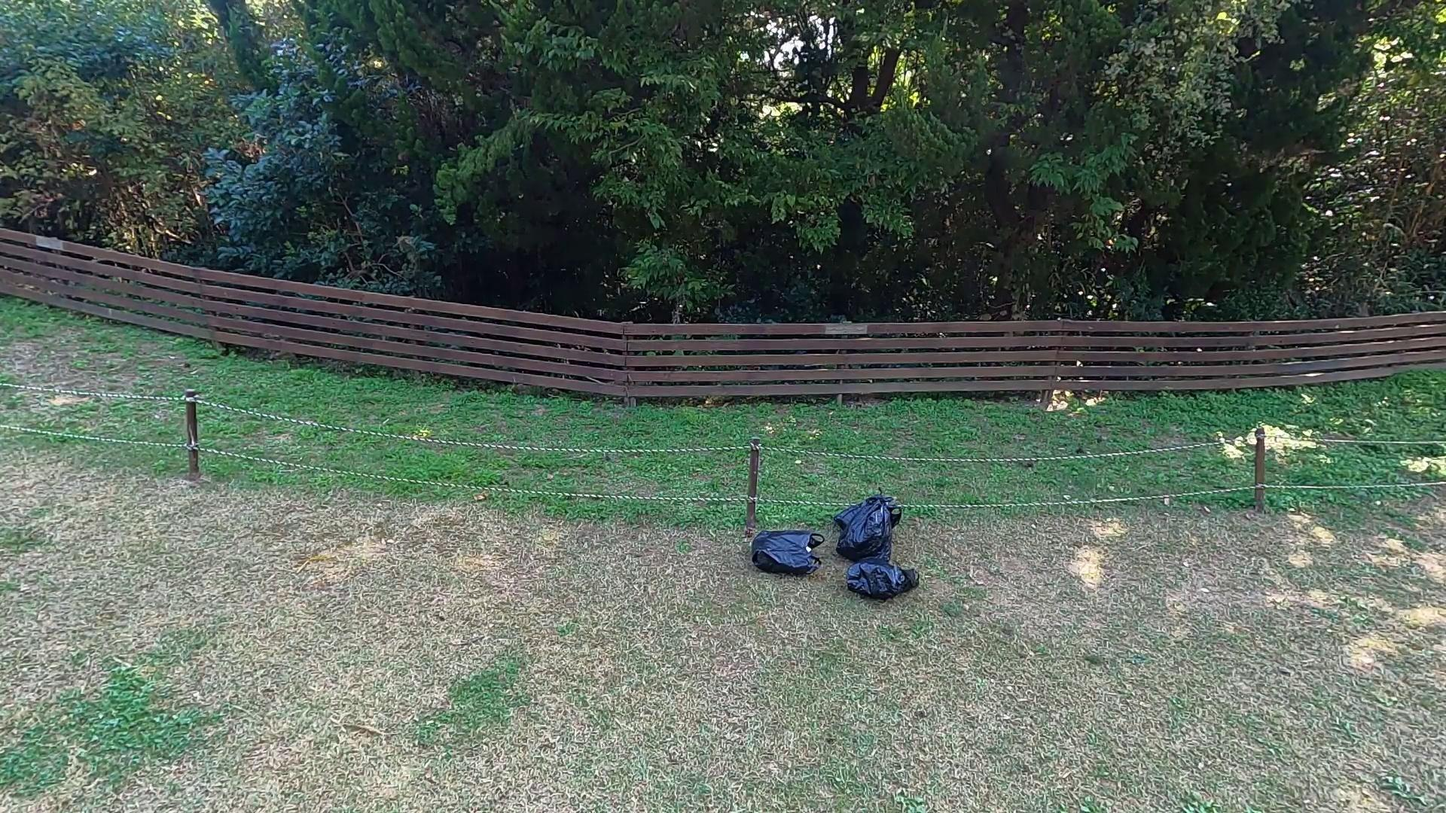trash: (749, 525, 826, 585), (830, 482, 905, 539), (839, 552, 919, 600), (840, 497, 896, 565)
